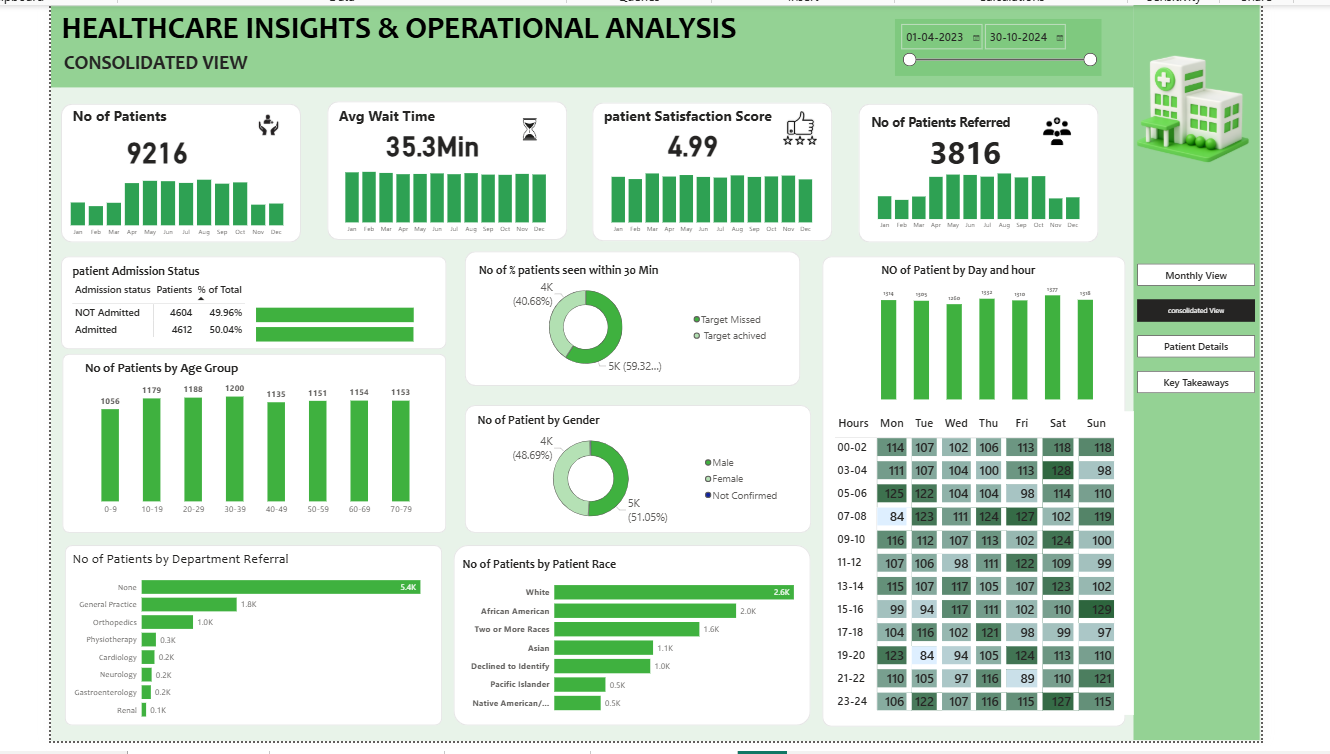

What the dashboard file says about the page in this screenshot:
{"tool":"powerbi","page":{"name":"consolidated View","canvas":[2300,1400],"ordinal":1},"visuals":[{"type":"shape","box":[2059.1,0,240.2,1398.1],"z":0},{"type":"shape","box":[0,2.4,2059.1,154.6],"z":1000},{"type":"textbox","box":[2.5,2.5,1989.8,115.9],"z":2000},{"type":"textbox","box":[19,80.8,1992.5,126],"z":3000},{"type":"shape","box":[19,187.8,456.5,263.9],"z":4000},{"type":"card","fields":{"Values":["Hospital_ER_Data.No of Patients"]},"box":[0,187.4,404.1,172.8],"z":5000},{"type":"slicer","fields":{"Values":["Date Table.Date"]},"box":[1604.4,26.7,393.3,108.9],"z":6000},{"type":"textbox","box":[36.5,187.4,654.8,56],"z":7000},{"type":"shape","box":[524.7,182.6,456.5,263.9],"z":8000},{"type":"shape","box":[1030.3,185.5,456.5,263.9],"z":9000},{"type":"shape","box":[1536,187.8,456.5,263.9],"z":10000},{"type":"textbox","box":[542.6,187.2,261.7,57.4],"z":11000},{"type":"card","fields":{"Values":["Hospital_ER_Data.Avg wait Time"]},"box":[592.1,216.4,254.4,92.7],"z":12000},{"type":"columnChart","fields":{"Category":["Date Table.Month Name"],"Y":["Avg(Hospital_ER_Data.Patient Waittime)"]},"box":[542.2,295.6,417.8,148.9],"z":13000},{"type":"columnChart","fields":{"Y":["Hospital_ER_Data.No of Patients"],"Category":["Date Table.Month Name"]},"box":[20,277.8,442.2,171.1],"z":14000},{"type":"textbox","box":[1046.2,187.8,456.5,69],"z":15000},{"type":"card","fields":{"Values":["Hospital_ER_Data.Satisfaction Score"]},"box":[1046.2,192.6,349.5,140.3],"z":16000},{"type":"columnChart","fields":{"Category":["Date Table.Month Name"],"Y":["Hospital_ER_Data.Satisfaction Score"]},"box":[1048.9,295.6,417.8,148.9],"z":17000},{"type":"shape","box":[17.9,476.9,733.3,176.9],"z":18000},{"type":"textbox","box":[1555,202.1,456.5,76.1],"z":19000},{"type":"card","fields":{"Values":["Hospital_ER_Data.No of Patient Referred"]},"box":[1652.5,233,173.6,88],"z":20000},{"type":"pivotTable","title":"patient Admission Status","fields":{"Rows":["Hospital_ER_Data.Admission status"],"Values":["Hospital_ER_Data.No of Patients1","Hospital_ER_Data.No of Patients"]},"box":[35.9,492.3,556.4,148.7],"z":21000},{"type":"barChart","fields":{"Category":["Hospital_ER_Data.Admission status"],"Y":["Hospital_ER_Data.No of Patients"]},"box":[385.2,544.5,335.3,121.3],"z":22000},{"type":"shape","box":[20.5,664.1,730.8,341],"z":23000},{"type":"clusteredColumnChart","fields":{"Category":["Hospital_ER_Data.Age Group"],"Y":["Hospital_ER_Data.No of Patients"]},"box":[59,674.4,661.5,305.1],"z":24000},{"type":"shape","box":[25.6,1028.2,717.9,343.6],"z":25000},{"type":"clusteredBarChart","fields":{"Category":["Hospital_ER_Data.Department Referral"],"Y":["Hospital_ER_Data.No of Patients"]},"box":[35.9,1035.9,697.4,335.9],"z":26000},{"type":"shape","box":[787.2,469.2,638.5,256.4],"z":27000},{"type":"donutChart","title":"No of % patients seen within 30 Min","fields":{"Category":["Hospital_ER_Data.waittime status"],"Y":["Hospital_ER_Data.No of Patients"]},"box":[807.7,489.7,566.7,217.9],"z":28000},{"type":"shape","box":[787.2,761.5,659,243.6],"z":29000},{"type":"donutChart","title":"No of Patient by Gender","fields":{"Y":["Hospital_ER_Data.No of Patients"],"Category":["Hospital_ER_Data.Patient Gender"]},"box":[805.1,774.4,589.7,223.1],"z":30000},{"type":"shape","box":[766.7,1028.2,679.5,343.6],"z":31000},{"type":"clusteredBarChart","fields":{"Category":["Hospital_ER_Data.Patient Race"],"Y":["Hospital_ER_Data.No of Patients"]},"box":[776.9,1048.7,669.2,312.8],"z":32000},{"type":"shape","box":[1466.7,476.9,576.9,894.9],"z":33000},{"type":"pivotTable","fields":{"Rows":["Hospital_ER_Data.Waittime Interval"],"Columns":["Date Table.Day Name"],"Values":["Hospital_ER_Data.No of Patients"]},"box":[1486.7,773.3,573.3,577.8],"z":34000},{"type":"columnChart","title":"NO of Patient by Day and hour","fields":{"Category":["Date Table.Day Name"],"Y":["Hospital_ER_Data.No of Patients"]},"box":[1574.4,489.7,415.4,266.7],"z":35000},{"type":"image","box":[351.4,198.6,124.3,57.1],"z":36000},{"type":"image","box":[857.4,193.6,104.3,83],"z":37000},{"type":"image","box":[1376.6,202.1,95.7,63.8],"z":38000},{"type":"image","box":[1827.7,208.5,170.2,61.7],"z":39000},{"type":"image","box":[2042.2,44.4,257.8,295.6],"z":40000},{"type":"columnChart","fields":{"Category":["Date Table.Month Name"],"Y":["Hospital_ER_Data.No of Patients"]},"box":[1555.6,266.7,420,171.1],"z":41000},{"type":"pageNavigator","box":[2066.7,493.3,224.4,248.9],"z":42000}]}

Visuals, with their boxes on the page's 2300x1400 design canvas (x1, y1, x2, y2). These are canvas units, not pixel positions in the 1330x754 screenshot, which may show the page scaled, cropped or inside an application window:
shape: rect(2059, 0, 2299, 1398)
shape: rect(0, 2, 2059, 157)
textbox: rect(2, 2, 1992, 118)
textbox: rect(19, 81, 2012, 207)
shape: rect(19, 188, 476, 452)
card - Hospital_ER_Data.No of Patients: rect(0, 187, 404, 360)
slicer - Date Table.Date: rect(1604, 27, 1998, 136)
textbox: rect(36, 187, 691, 243)
shape: rect(525, 183, 981, 446)
shape: rect(1030, 186, 1487, 449)
shape: rect(1536, 188, 1992, 452)
textbox: rect(543, 187, 804, 245)
card - Hospital_ER_Data.Avg wait Time: rect(592, 216, 846, 309)
columnChart - Date Table.Month Name x Avg(Hospital_ER_Data.Patient Waittime): rect(542, 296, 960, 444)
columnChart - Hospital_ER_Data.No of Patients x Date Table.Month Name: rect(20, 278, 462, 449)
textbox: rect(1046, 188, 1503, 257)
card - Hospital_ER_Data.Satisfaction Score: rect(1046, 193, 1396, 333)
columnChart - Date Table.Month Name x Hospital_ER_Data.Satisfaction Score: rect(1049, 296, 1467, 444)
shape: rect(18, 477, 751, 654)
textbox: rect(1555, 202, 2012, 278)
card - Hospital_ER_Data.No of Patient Referred: rect(1652, 233, 1826, 321)
"patient Admission Status" pivotTable: rect(36, 492, 592, 641)
barChart - Hospital_ER_Data.Admission status x Hospital_ER_Data.No of Patients: rect(385, 544, 720, 666)
shape: rect(20, 664, 751, 1005)
clusteredColumnChart - Hospital_ER_Data.Age Group x Hospital_ER_Data.No of Patients: rect(59, 674, 720, 980)
shape: rect(26, 1028, 744, 1372)
clusteredBarChart - Hospital_ER_Data.Department Referral x Hospital_ER_Data.No of Patients: rect(36, 1036, 733, 1372)
shape: rect(787, 469, 1426, 726)
"No of % patients seen within 30 Min" donutChart: rect(808, 490, 1374, 708)
shape: rect(787, 762, 1446, 1005)
"No of Patient by Gender" donutChart: rect(805, 774, 1395, 998)
shape: rect(767, 1028, 1446, 1372)
clusteredBarChart - Hospital_ER_Data.Patient Race x Hospital_ER_Data.No of Patients: rect(777, 1049, 1446, 1362)
shape: rect(1467, 477, 2044, 1372)
pivotTable - Hospital_ER_Data.Waittime Interval x Date Table.Day Name: rect(1487, 773, 2060, 1351)
"NO of Patient by Day and hour" columnChart: rect(1574, 490, 1990, 756)
image: rect(351, 199, 476, 256)
image: rect(857, 194, 962, 277)
image: rect(1377, 202, 1472, 266)
image: rect(1828, 208, 1998, 270)
image: rect(2042, 44, 2300, 340)
columnChart - Date Table.Month Name x Hospital_ER_Data.No of Patients: rect(1556, 267, 1976, 438)
pageNavigator: rect(2067, 493, 2291, 742)
